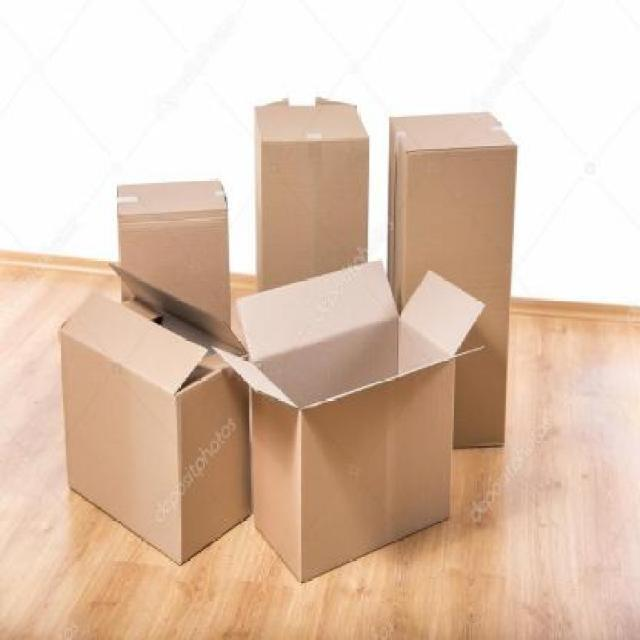box: (222, 276, 478, 596), (58, 259, 262, 563), (386, 105, 514, 451), (248, 99, 376, 308), (112, 172, 232, 342)
